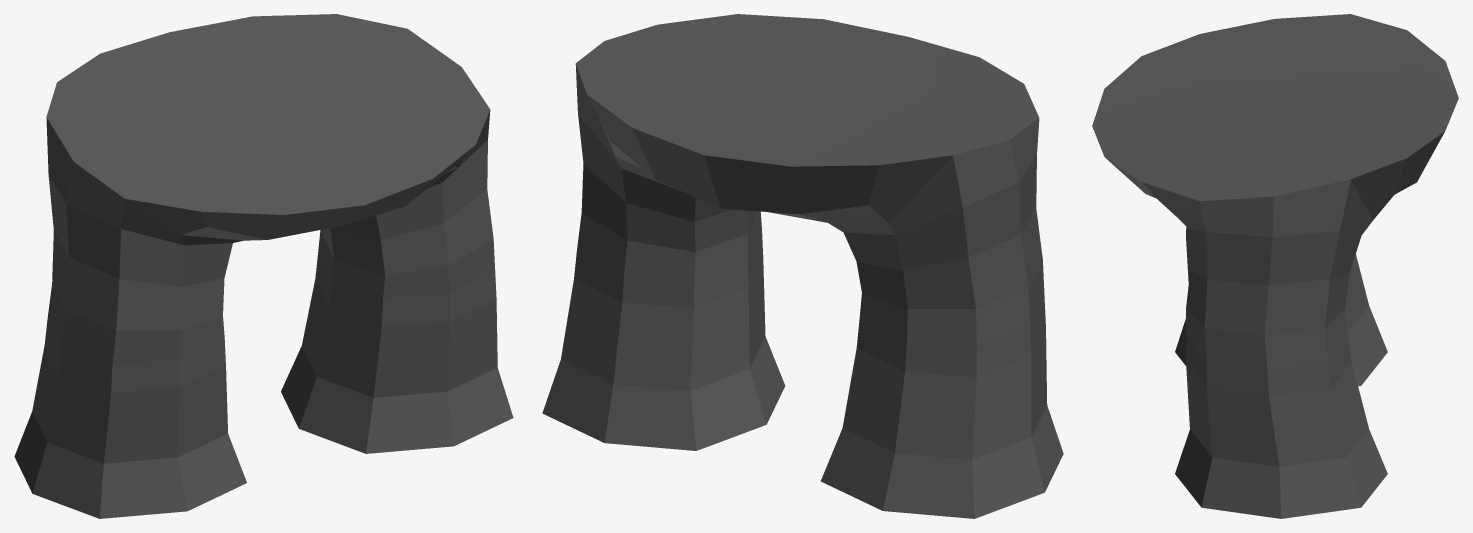
Rendered from iron_pants_mesh.fbx.
3 views of the same model, side by side, from view 1: azimuth 30°, elevation 25°; view 2: azimuth 150°, elevation 25°; view 3: azimuth 270°, elevation 25° (orthographic). The views are drawn at different scales.
Visible parts, largest first — view 1: Iron_Pants; view 2: Iron_Pants; view 3: Iron_Pants.
Part boxes in pixels (box(x1,y1,x2,y2)): Iron_Pants: box(14, 14, 513, 518); Iron_Pants: box(542, 14, 1063, 518); Iron_Pants: box(1092, 14, 1458, 518).
Size of the model in its own units: 61.65 by 45.1 by 43.98.
